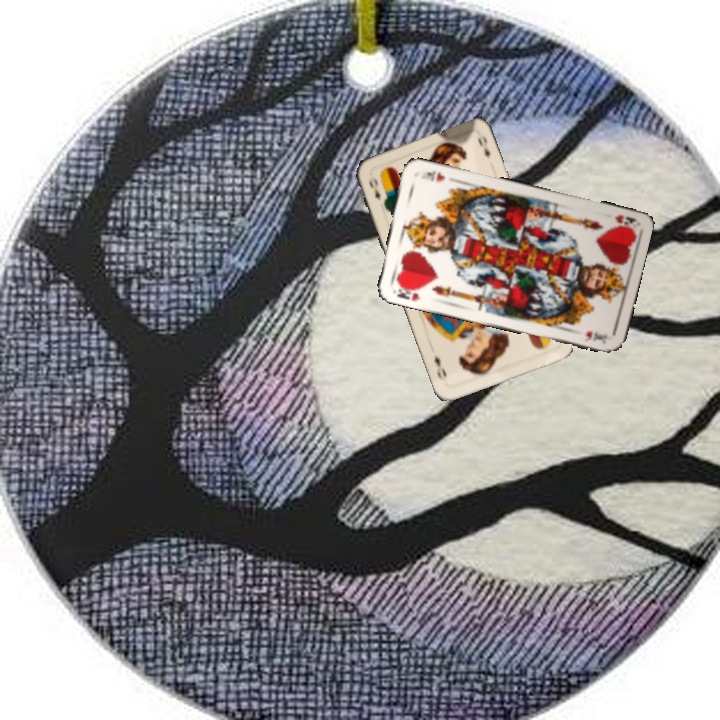EO: (365, 172, 384, 203)
HK: (388, 280, 423, 304), (611, 210, 638, 231)
